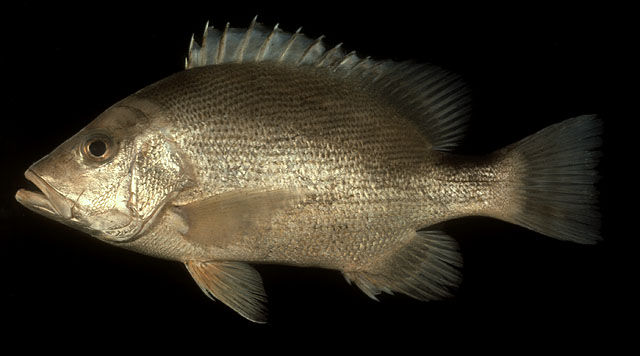fish: (15, 15, 600, 325)
